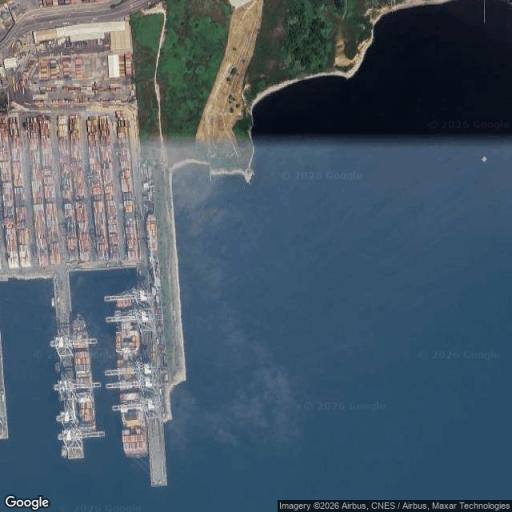ship: (116, 291, 150, 458), (72, 313, 97, 432)
